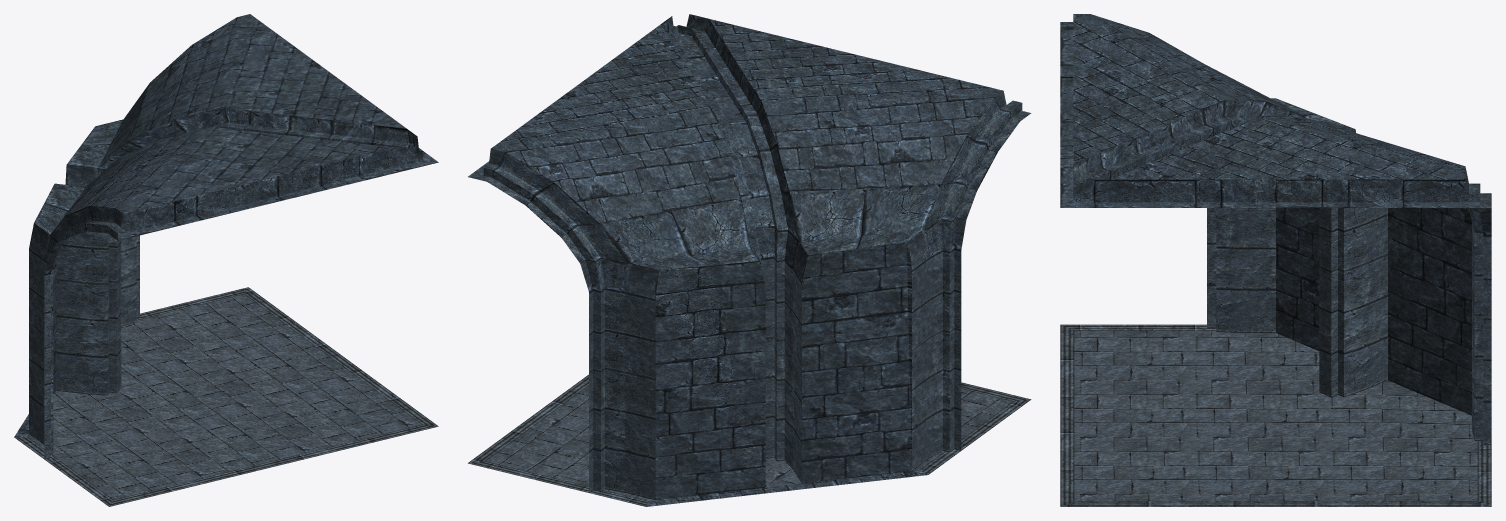
File: wall_In_corner.FBX
3 views of the same model, side by side, from view 1: azimuth 30°, elevation 25°; view 2: azimuth 150°, elevation 25°; view 3: azimuth 270°, elevation 25° (orthographic). The views are drawn at different scales.
Visible parts, largest first — view 1: wall_In_corner; view 2: wall_In_corner; view 3: wall_In_corner.
Boxes of the visible parts, box(x1,y1,x2,y2) form: wall_In_corner: box(14, 14, 438, 506); wall_In_corner: box(468, 14, 1031, 506); wall_In_corner: box(1060, 14, 1491, 506).
Size of the model in its own units: 91.85 by 75.6 by 91.85.
